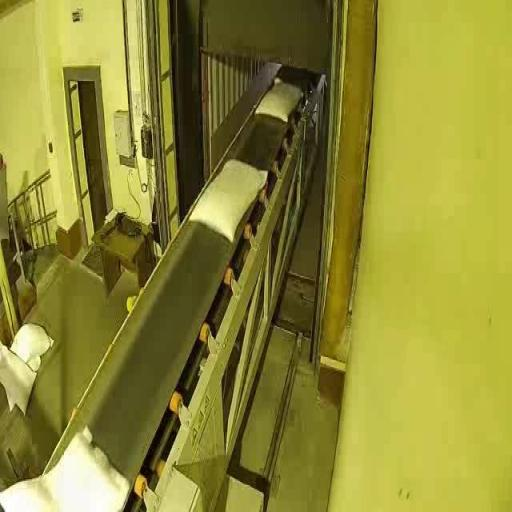c-belt-sack-count: (0, 428, 129, 511), (190, 161, 267, 242), (256, 80, 302, 121)
